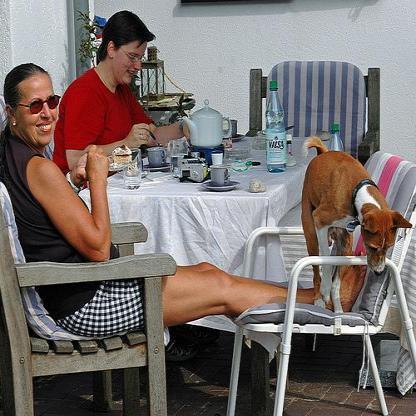basenji: (299, 132, 412, 308)
